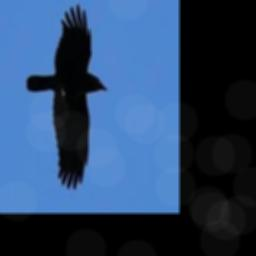Crow: (26, 4, 106, 189)
